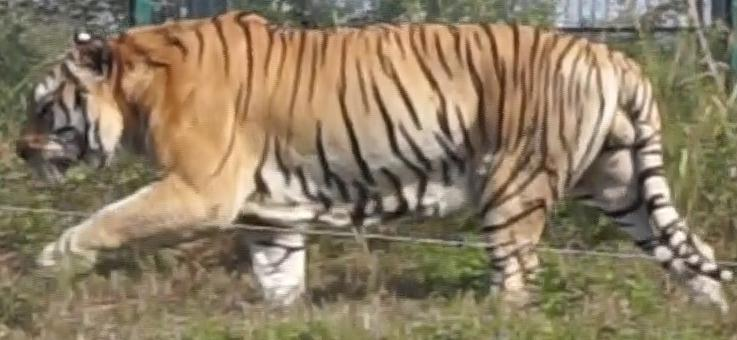tiger: (18, 11, 731, 307)
